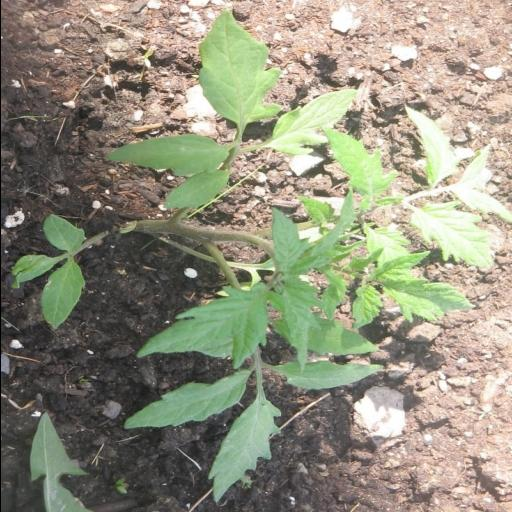Healthy: (134, 284, 270, 368), (197, 8, 282, 122), (207, 399, 282, 504), (121, 370, 251, 430), (268, 88, 358, 156), (316, 124, 398, 198), (104, 134, 230, 176), (276, 274, 328, 372), (273, 316, 379, 356), (38, 261, 86, 329), (270, 362, 384, 390), (268, 206, 310, 273), (161, 169, 231, 209), (41, 214, 85, 252), (10, 255, 58, 289)
